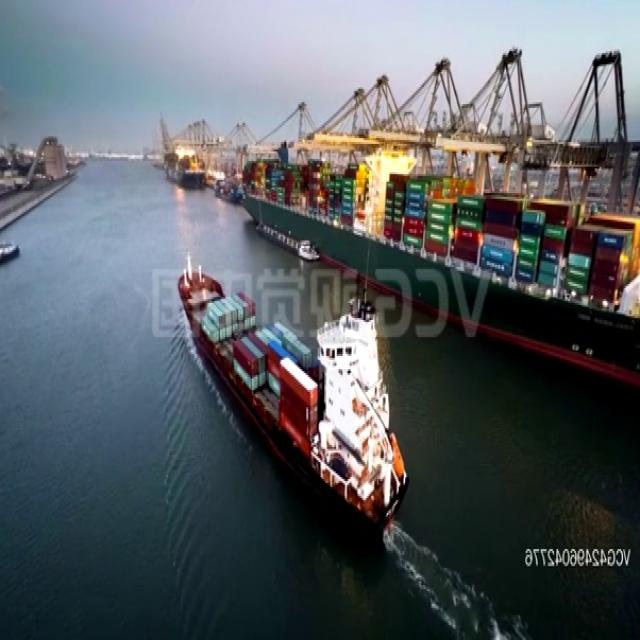cargoship: (214, 149, 640, 340), (183, 289, 394, 537)
